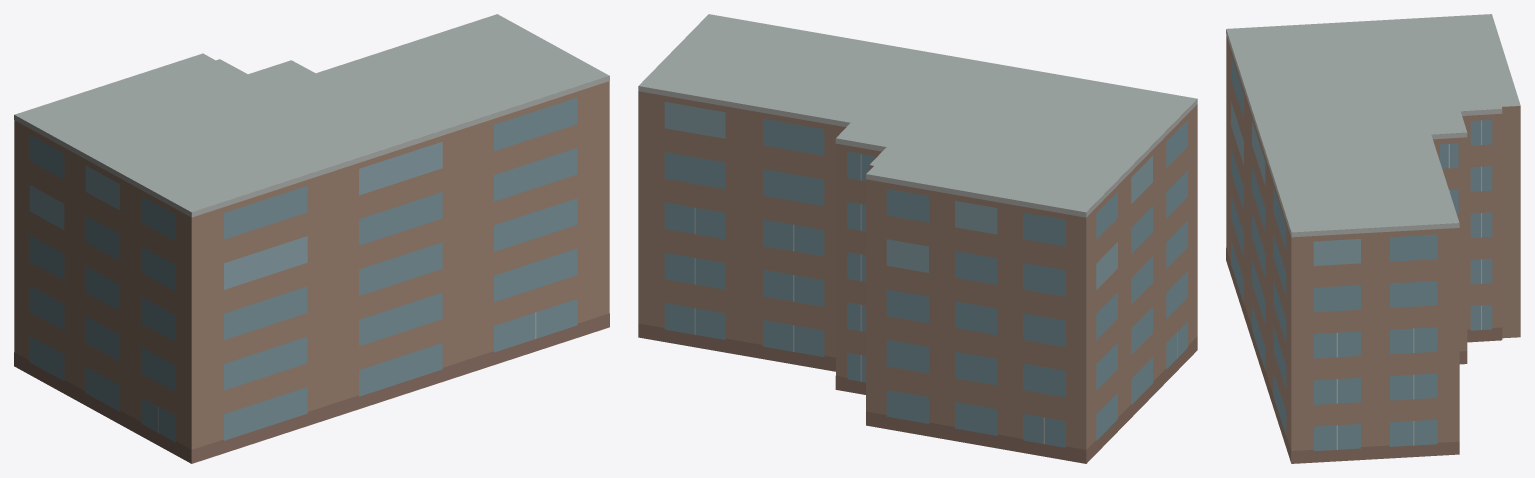
Rendered from survey-upis-32616206.glb.
The picture shows the model from 3 angles, left to right: view 1: azimuth 30°, elevation 25°; view 2: azimuth 150°, elevation 25°; view 3: azimuth 270°, elevation 25°; orthographic projection. The views are drawn at different scales.
Visible parts, largest first — view 1: survey-upis-32616206.tmp; view 2: survey-upis-32616206.tmp; view 3: survey-upis-32616206.tmp.
Boxes of the visible parts, box(x1,y1,x2,y2) form: survey-upis-32616206.tmp: box(14, 14, 609, 463); survey-upis-32616206.tmp: box(638, 14, 1197, 463); survey-upis-32616206.tmp: box(1226, 14, 1520, 463).
Size of the model in its own units: 23.7 by 11.7 by 13.51.
